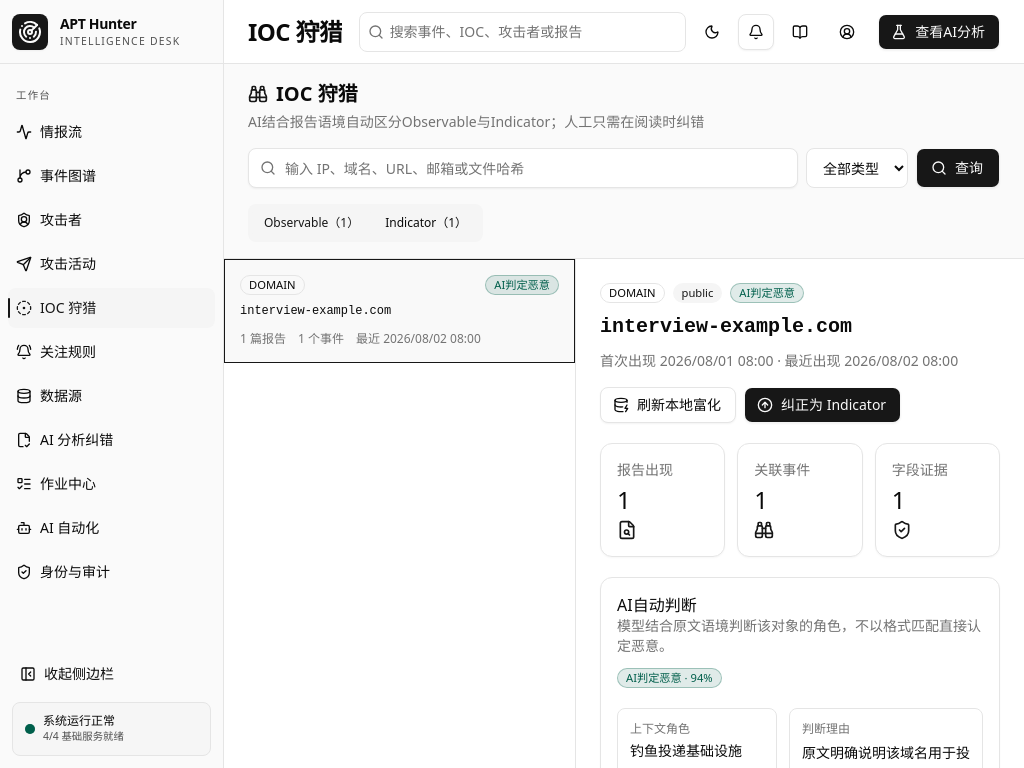
it: IOC hunting › shows Indicators in a scrollable table and opens a detail drawer
The width and height of the screenshot is (1024, 768).
Click the button "Indicator（1）" at (426, 223), box [372, 207, 480, 239]
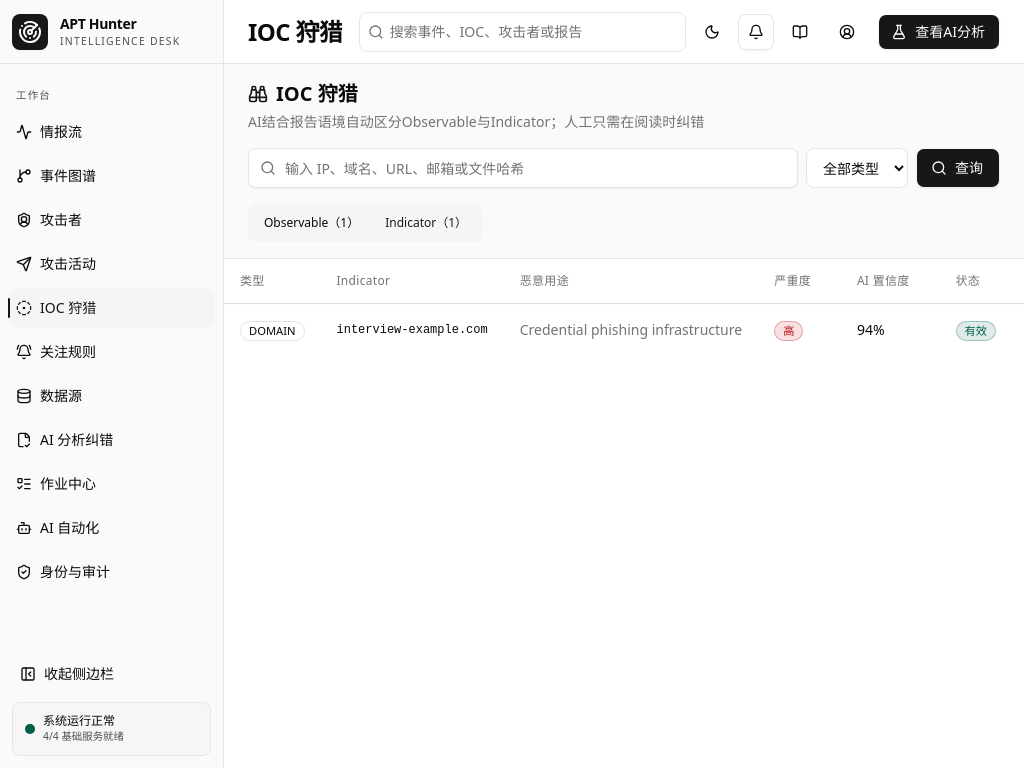
Check: the text "interview-example.com" is shown, box [336, 322, 488, 338]
Check: the table is shown, box [224, 259, 1023, 356]
Check: the text "Credential phishing infrastructure" is shown, box [520, 320, 742, 340]
Click the row named "查看 Indicator interview-example.com" at (624, 330), box [224, 303, 1023, 356]
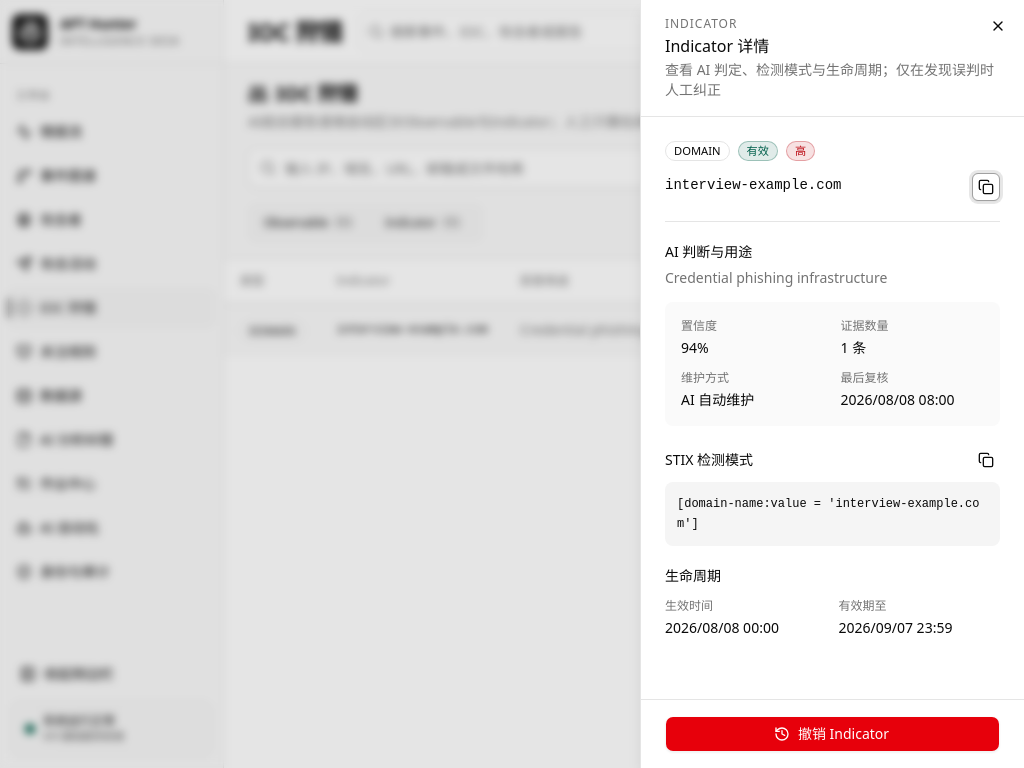
Check: the dialog "Indicator 详情" is shown, box [640, 0, 1023, 767]
Check: the text "AI 自动维护" is shown, box [681, 390, 754, 409]
Check: the text "[domain-name:value = 'interview-example.com']" is shown, box [665, 482, 1000, 546]
